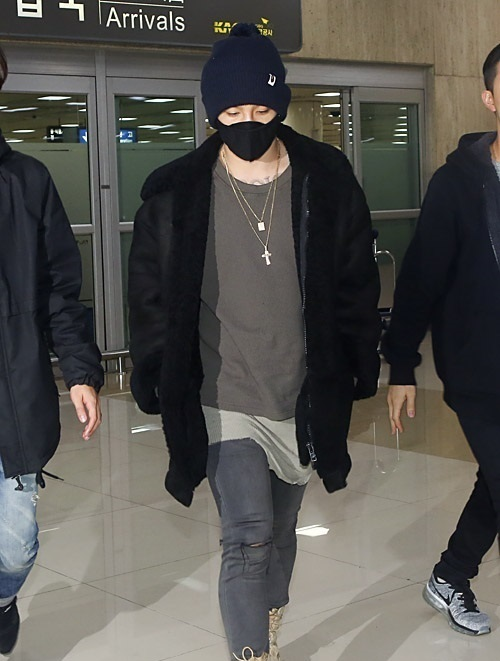face_mask: (215, 80, 277, 165)
